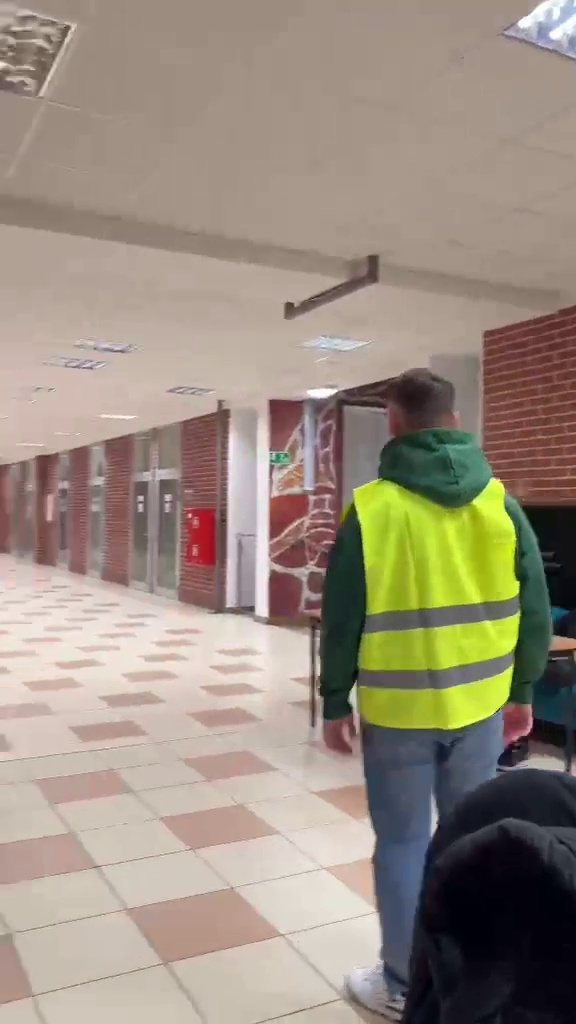vest: (324, 371, 545, 1010)
